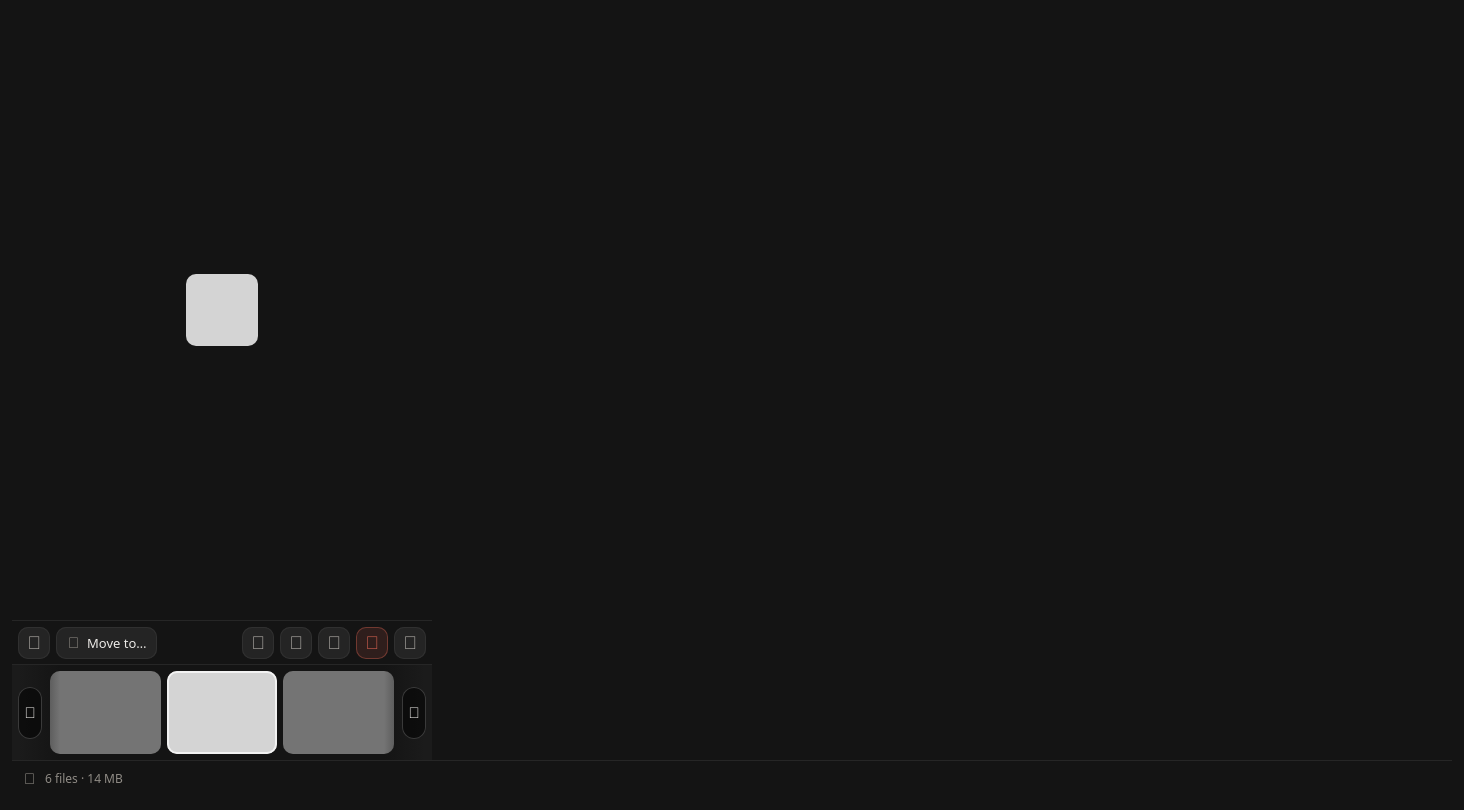
Test: Escape out of Rename from the ⋯ gives the focus back to the ⋯
Click the button named "More" at (410, 642), box top-left (394, 626), bottom-right (426, 658)
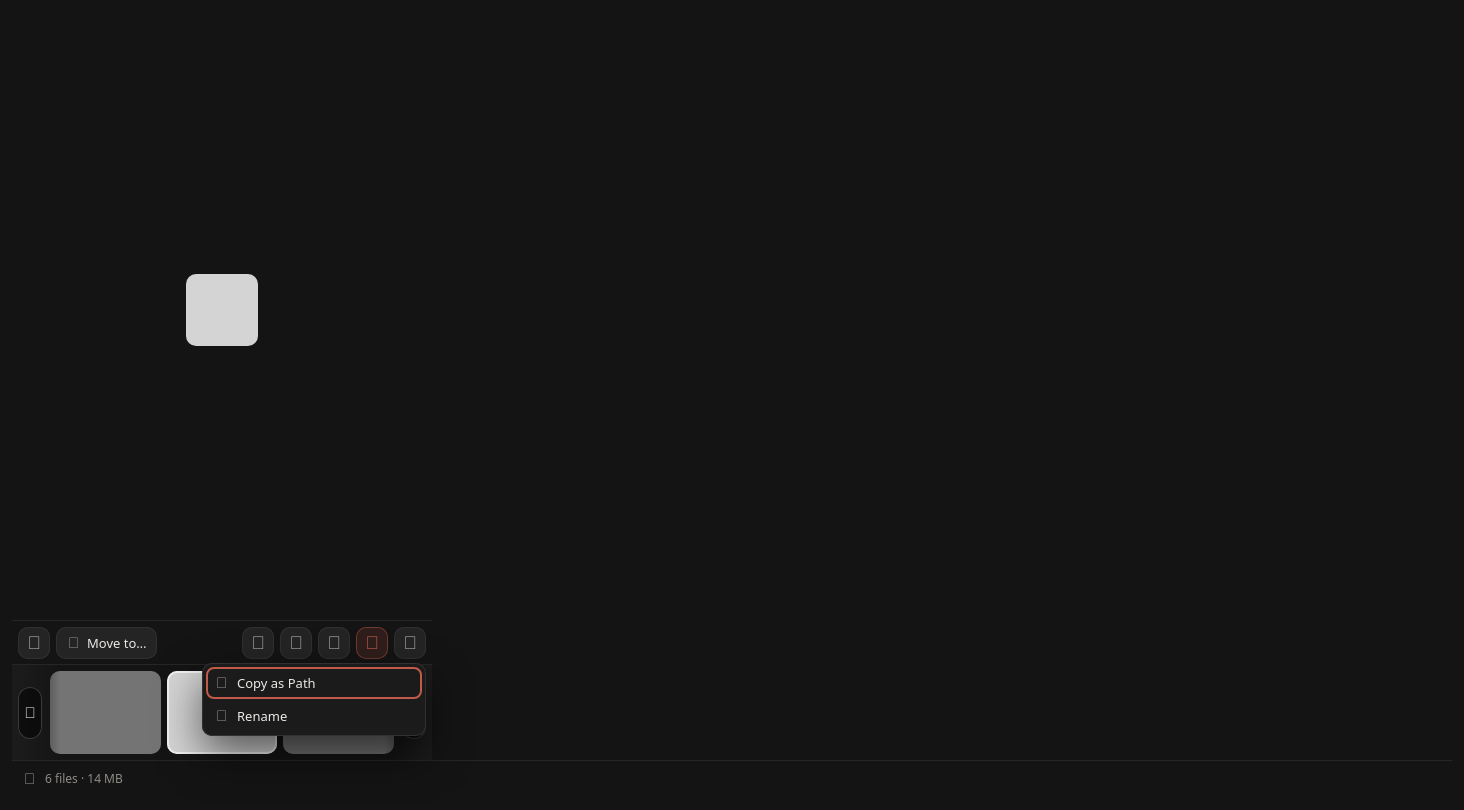
Click the menu item "Rename" at (314, 716), box top-left (206, 700), bottom-right (422, 732)
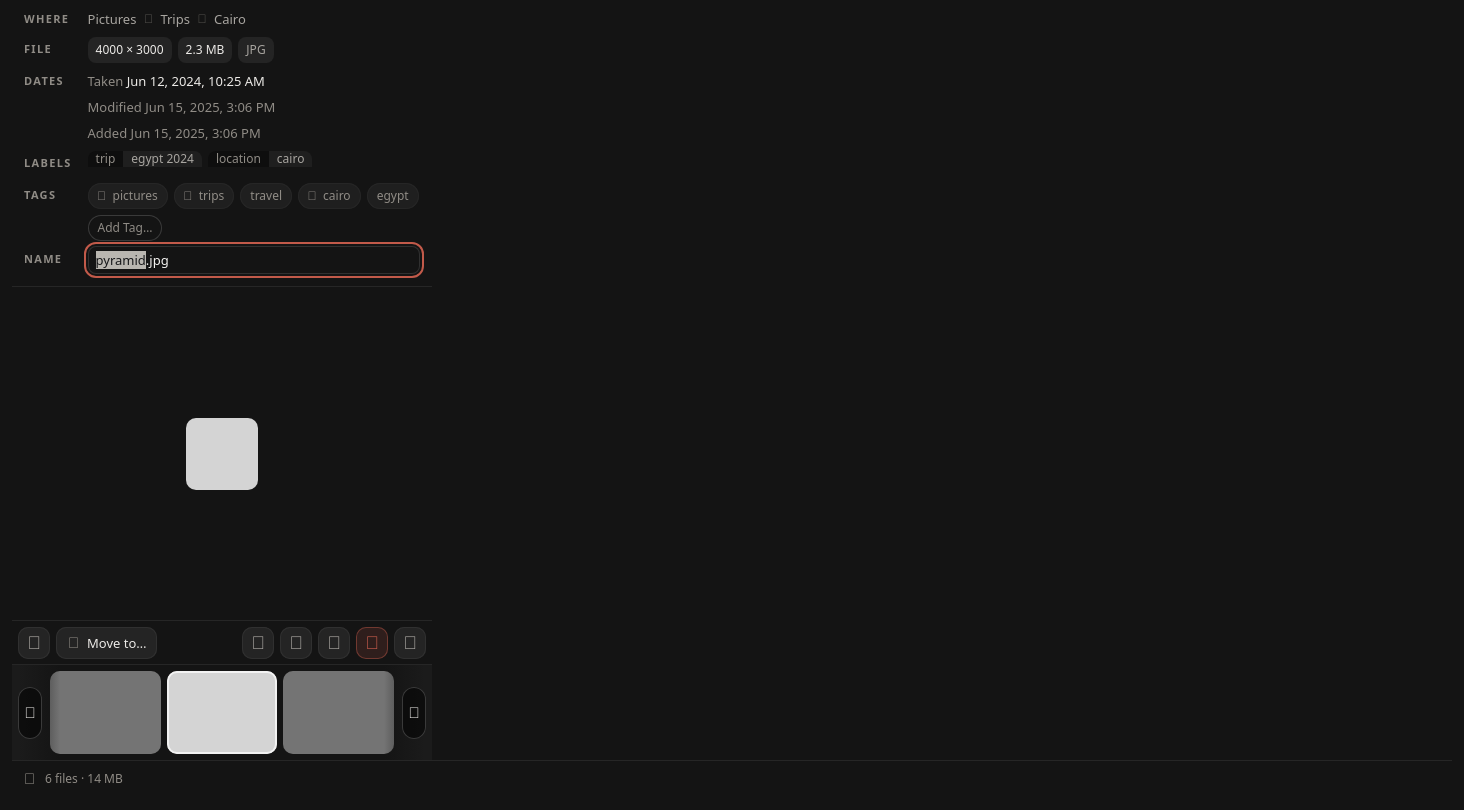
Press Escape
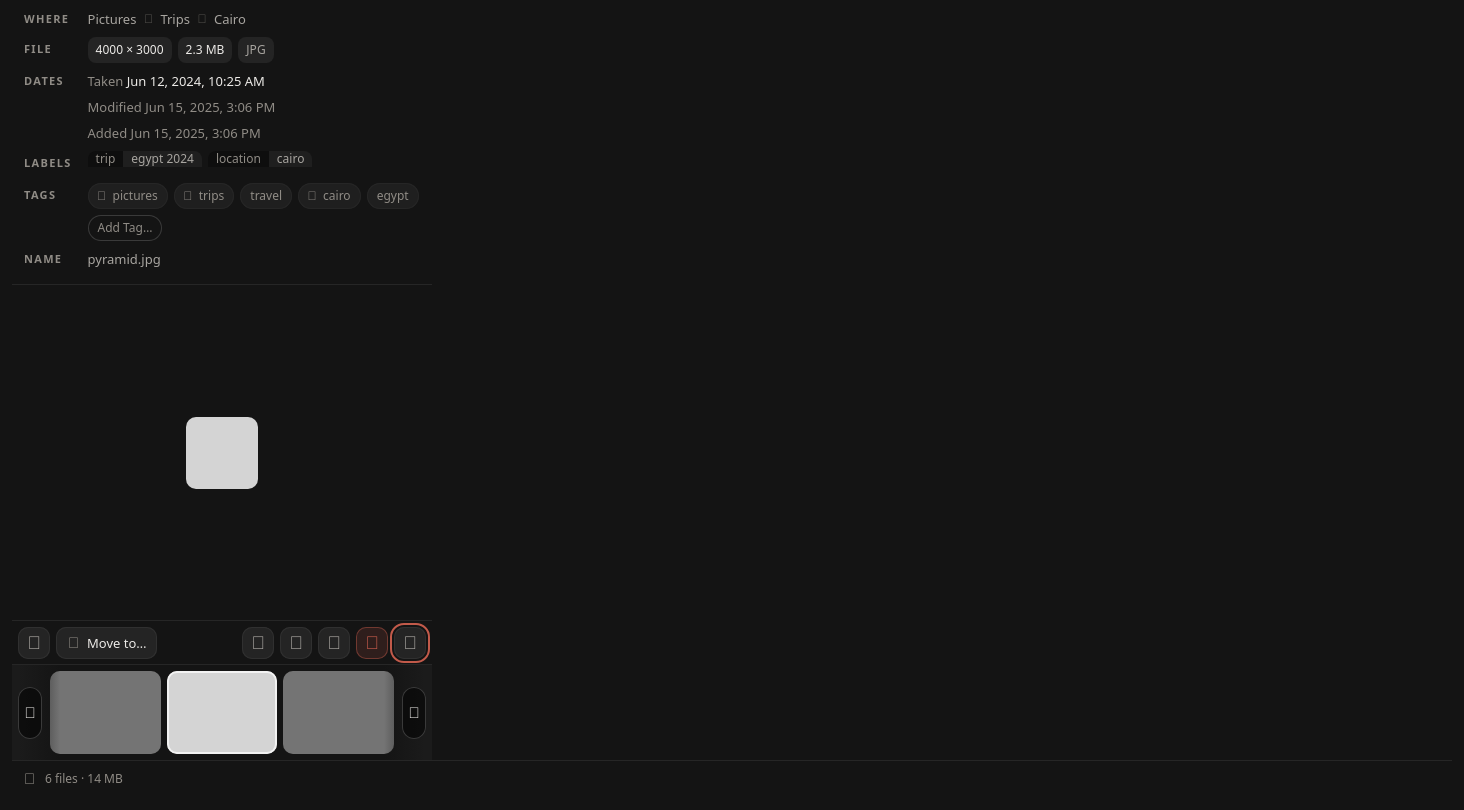
Expected: the button "pyramid.jpg" is shown, top-left (88, 246), bottom-right (182, 272)
